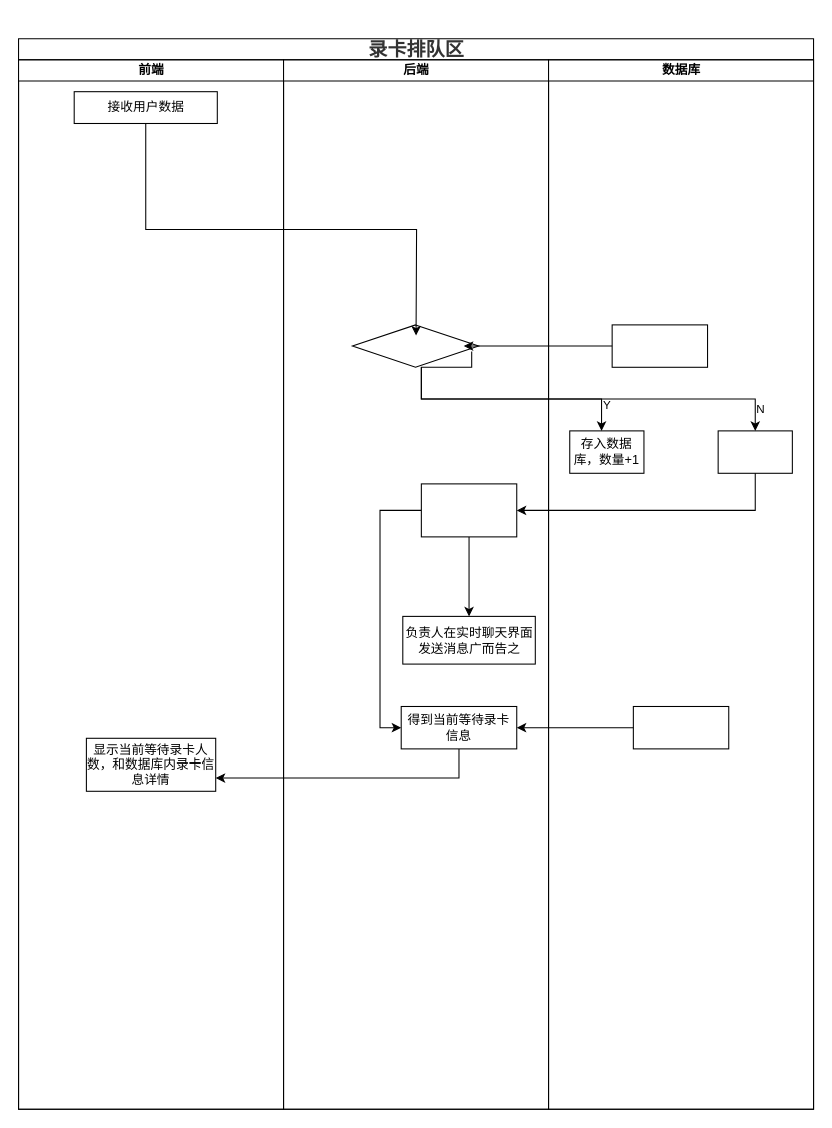
Some shapes in this 832 by 1128 pixel diagram are drawn without their labels. The centre of each missing label's shape, as x and y in pixels:
从数据库取出当前数量: [659,345]
从数据库取出所有等待录卡字段信息: [680,727]
判断当前数据是否等于4: [415,345]
存入数据库，数量清0: [754,451]
将当前数据和前四条数据一起发送给负责人: [468,510]
